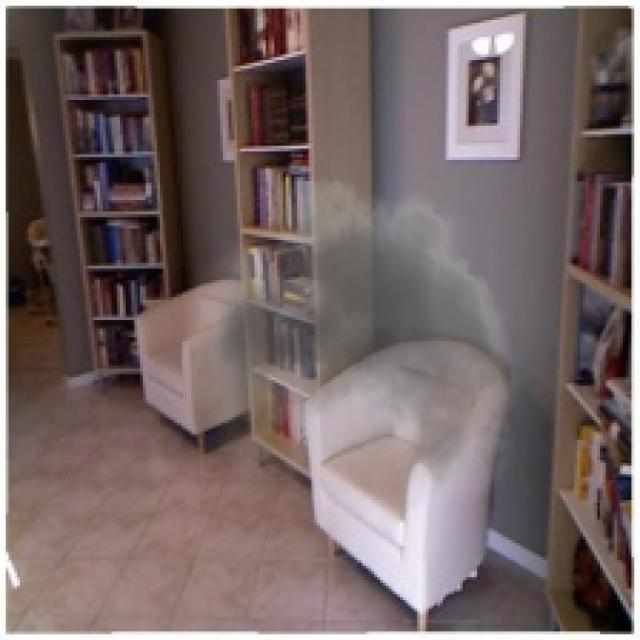Smoke: (182, 157, 534, 560)
